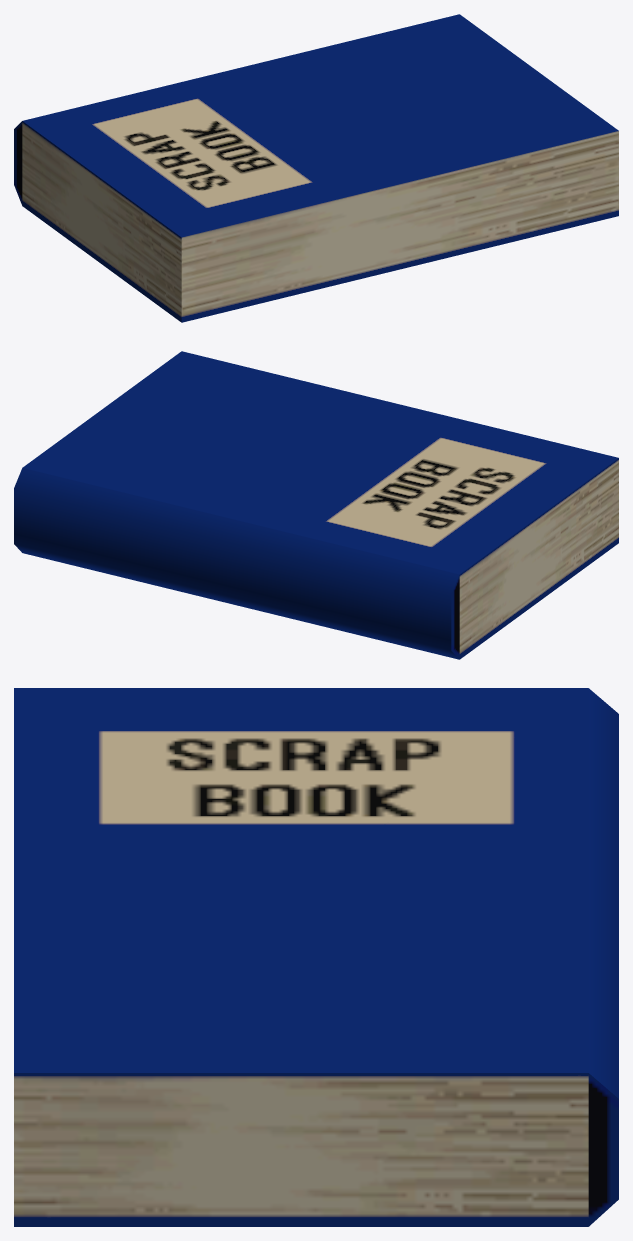
File: REDS_scrapbook.obj
3 views of the same model, one above another, from view 1: azimuth 30°, elevation 25°; view 2: azimuth 150°, elevation 25°; view 3: azimuth 270°, elevation 25° (orthographic). The views are drawn at different scales.
Parts seen in each view (by area): view 1: ro_scrap; view 2: ro_scrap; view 3: ro_scrap.
Boxes of the visible parts, left/top/right/bottom form: ro_scrap: left=14, top=14, right=618, bottom=322; ro_scrap: left=14, top=351, right=618, bottom=659; ro_scrap: left=14, top=688, right=618, bottom=1226.
Size of the model in its own units: 5.42 by 1.01 by 3.6.
Materials: 1 (1 with a texture image).
